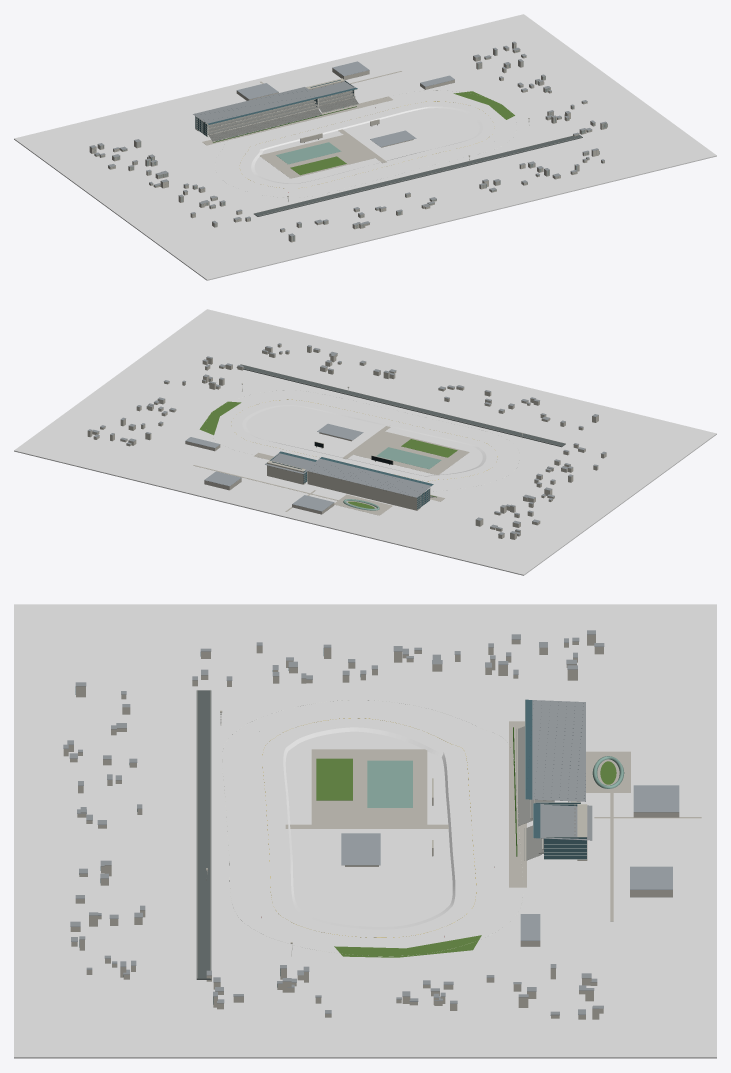
File: venue-mid.glb
The picture shows the model from 3 angles, top to bottom: view 1: azimuth 30°, elevation 25°; view 2: azimuth 150°, elevation 25°; view 3: azimuth 270°, elevation 25°; orthographic projection. The views are drawn at different scales.
Parts seen in each view (by area): view 1: Apron; view 2: Apron, Distance_4; view 3: Apron, Distance_4.
Boxes of the visible parts, bbox=[...] form: Apron: bbox=[14, 14, 716, 280]; Apron: bbox=[14, 309, 716, 575]; Distance_4: bbox=[241, 364, 565, 510]; Apron: bbox=[14, 604, 716, 1058]; Distance_4: bbox=[197, 690, 624, 978].
Size of the model in its own units: 1600 by 54.69 by 1050.
Materials: 2 (2 with a texture image).
